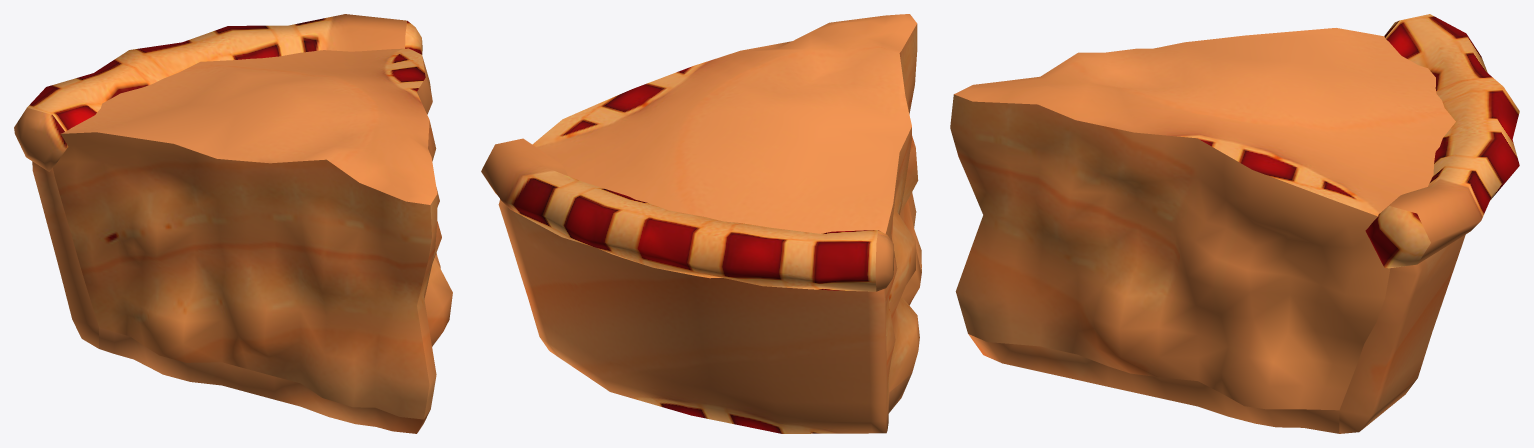
The model's file is CherryPieSlice_1.fbx.
3 renders of one model, left to right at view 1: azimuth 30°, elevation 25°; view 2: azimuth 150°, elevation 25°; view 3: azimuth 270°, elevation 25°, orthographic. The views are drawn at different scales.
Parts seen in each view (by area): view 1: CherryPieSlice_1; view 2: CherryPieSlice_1; view 3: CherryPieSlice_1.
Boxes of the visible parts, x1,y1,x2,y2 form: CherryPieSlice_1: (14,14,452,433); CherryPieSlice_1: (481,14,921,433); CherryPieSlice_1: (950,14,1519,433).
Bounding box in the file's own units: 49.75 × 30.86 × 56.74.
1 material, 1 textured.
